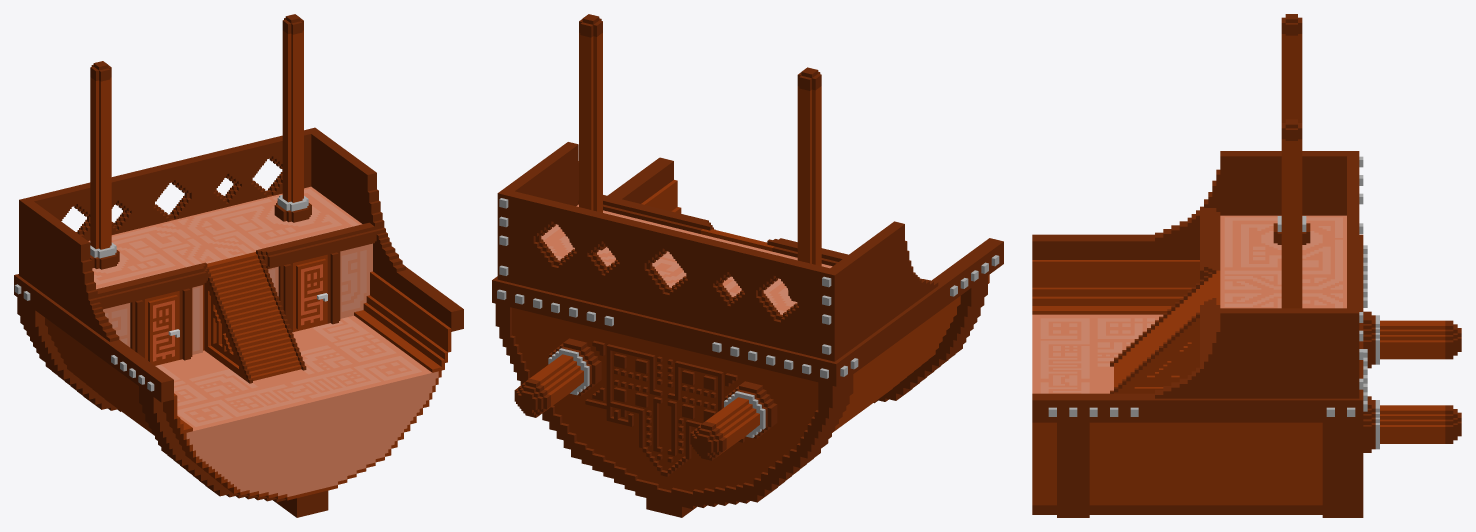
File: BoatBack 2.obj
3 renders of one model, left to right at view 1: azimuth 30°, elevation 25°; view 2: azimuth 150°, elevation 25°; view 3: azimuth 270°, elevation 25°, orthographic. The views are drawn at different scales.
Bounding box in the file's own units: 98 × 118 × 105.
1 material, 1 textured.
